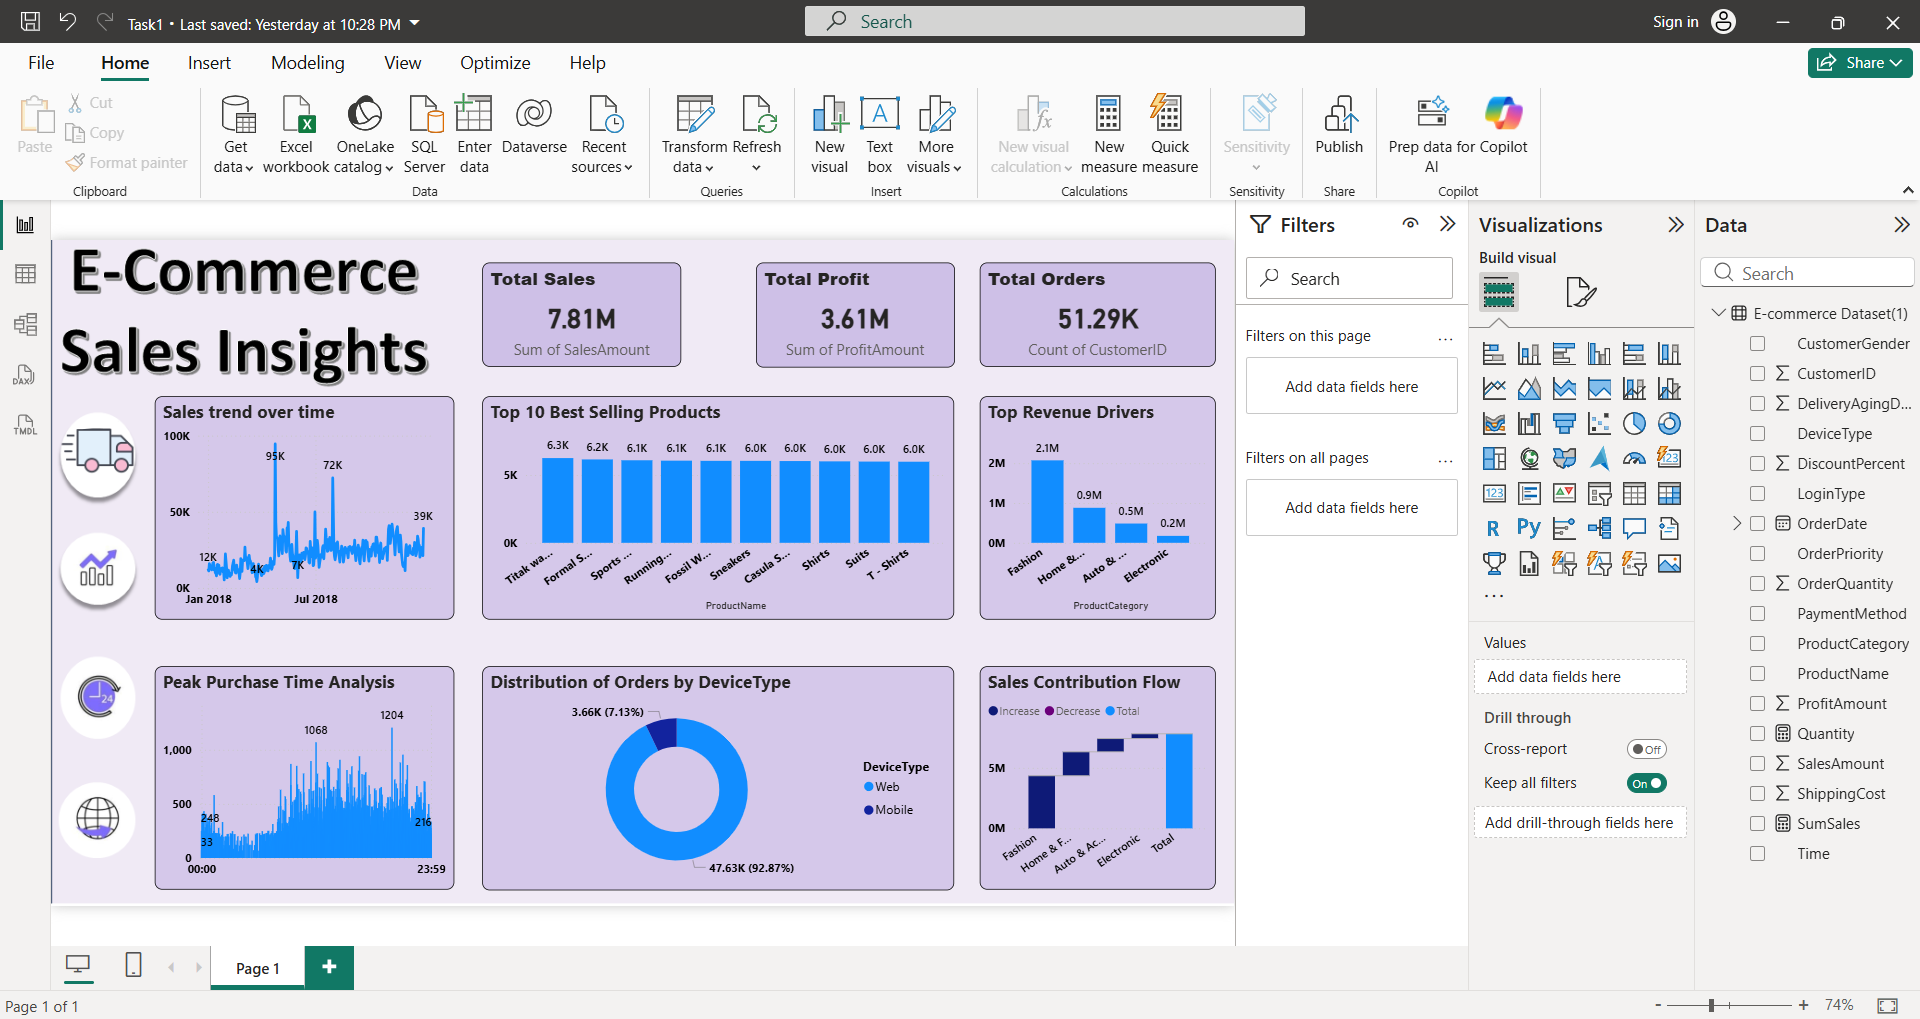

This screenshot's page, from the dashboard's own definition file:
{"tool":"powerbi","page":{"name":"Page 1","canvas":[1280,720],"ordinal":0},"visuals":[{"type":"card","title":"Total Sales","fields":{"Values":["Sum(E-commerce Dataset(1).SalesAmount)"]},"box":[466.6,24.7,215.4,112.5],"z":0},{"type":"card","title":"Total Profit","fields":{"Values":["Sum(E-commerce Dataset(1).ProfitAmount)"]},"box":[762.5,24.3,215,113.6],"z":1000},{"type":"card","title":"Total Orders","fields":{"Values":["CountNonNull(E-commerce Dataset(1).CustomerID)"]},"box":[1004.5,24.7,255.2,112.5],"z":2000},{"type":"lineChart","title":"Sales trend over time","fields":{"Y":["Sum(E-commerce Dataset(1).SalesAmount)"],"Category":["E-commerce Dataset(1).OrderDate.Variation.Date Hierarchy.Year","E-commerce Dataset(1).OrderDate.Variation.Date Hierarchy.Quarter","E-commerce Dataset(1).OrderDate.Variation.Date Hierarchy.Month","E-commerce Dataset(1).OrderDate.Variation.Date Hierarchy.Day"]},"box":[112.5,168.8,323.8,241.5],"z":3000},{"type":"columnChart","title":"Peak Purchase Time Analysis","fields":{"Category":["E-commerce Dataset(1).Time"],"Y":["Sum(E-commerce Dataset(1).SalesAmount)"]},"box":[112.5,461.1,323.8,241.5],"z":4000},{"type":"columnChart","title":"Top 10 Best Selling Products","fields":{"Category":["E-commerce Dataset(1).ProductName"],"Y":["E-commerce Dataset(1).Quantity"]},"box":[466.6,168.8,510.5,241.5],"z":5000},{"type":"columnChart","title":"Top Revenue Drivers","fields":{"Category":["E-commerce Dataset(1).ProductCategory"],"Y":["Sum(E-commerce Dataset(1).ProfitAmount)"]},"box":[1004.5,168.8,255.2,241.5],"z":6000},{"type":"waterfallChart","title":"Sales Contribution Flow","fields":{"Category":["E-commerce Dataset(1).ProductCategory"],"Y":["E-commerce Dataset(1).SumSales"]},"box":[1004.5,461.1,255.2,241.5],"z":7000},{"type":"donutChart","title":"Distribution of Orders by DeviceType","fields":{"Category":["E-commerce Dataset(1).DeviceType"],"Y":["CountNonNull(E-commerce Dataset(1).CustomerID)"]},"box":[467,461,510,242],"z":8000}]}

Visuals, with their boxes on the page's 1280x720 design canvas (x1, y1, x2, y2). These are canvas units, not pixel positions in the 1920x1019 screenshot, which may show the page scaled, cropped or inside an application window:
"Total Sales" card: 467,25,682,137
"Total Profit" card: 762,24,978,138
"Total Orders" card: 1004,25,1260,137
"Sales trend over time" lineChart: 112,169,436,410
"Peak Purchase Time Analysis" columnChart: 112,461,436,703
"Top 10 Best Selling Products" columnChart: 467,169,977,410
"Top Revenue Drivers" columnChart: 1004,169,1260,410
"Sales Contribution Flow" waterfallChart: 1004,461,1260,703
"Distribution of Orders by DeviceType" donutChart: 467,461,977,703
